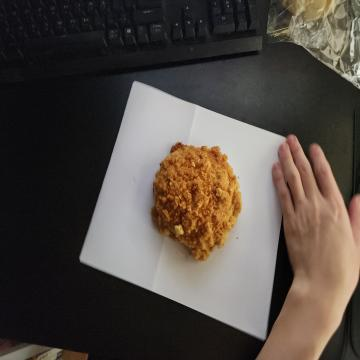soboru_bread: (148, 141, 247, 266)
